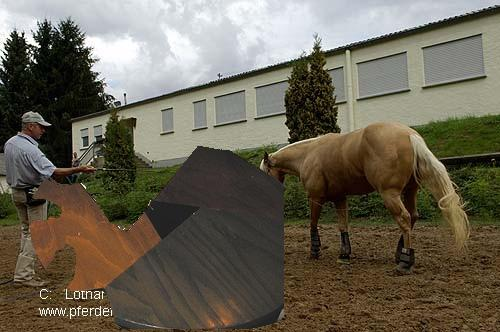tampered: (29, 147, 284, 329)
